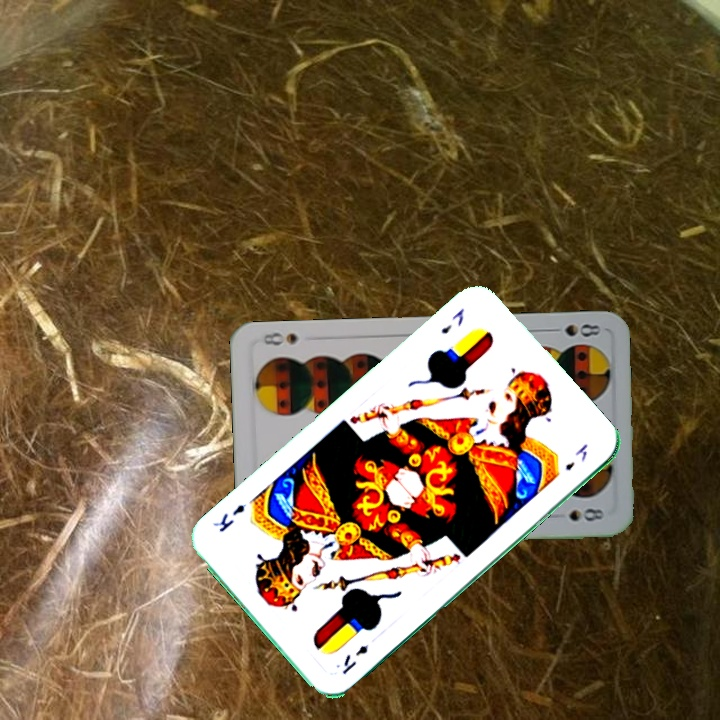EK: (338, 640, 371, 678), (436, 304, 467, 337)
S8: (544, 319, 603, 339)
